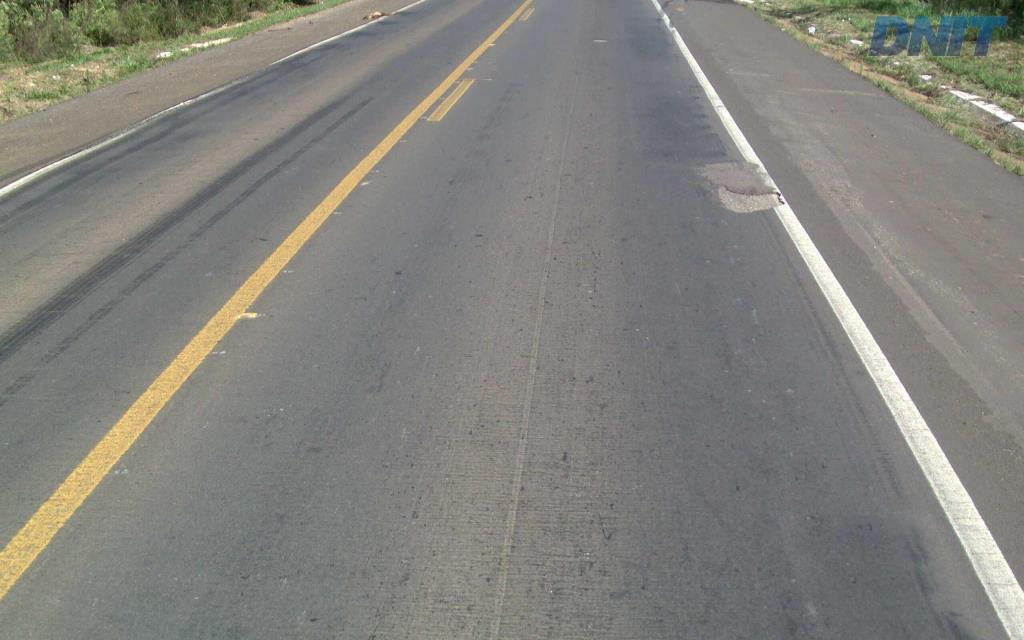pothole: (709, 182, 783, 217)
